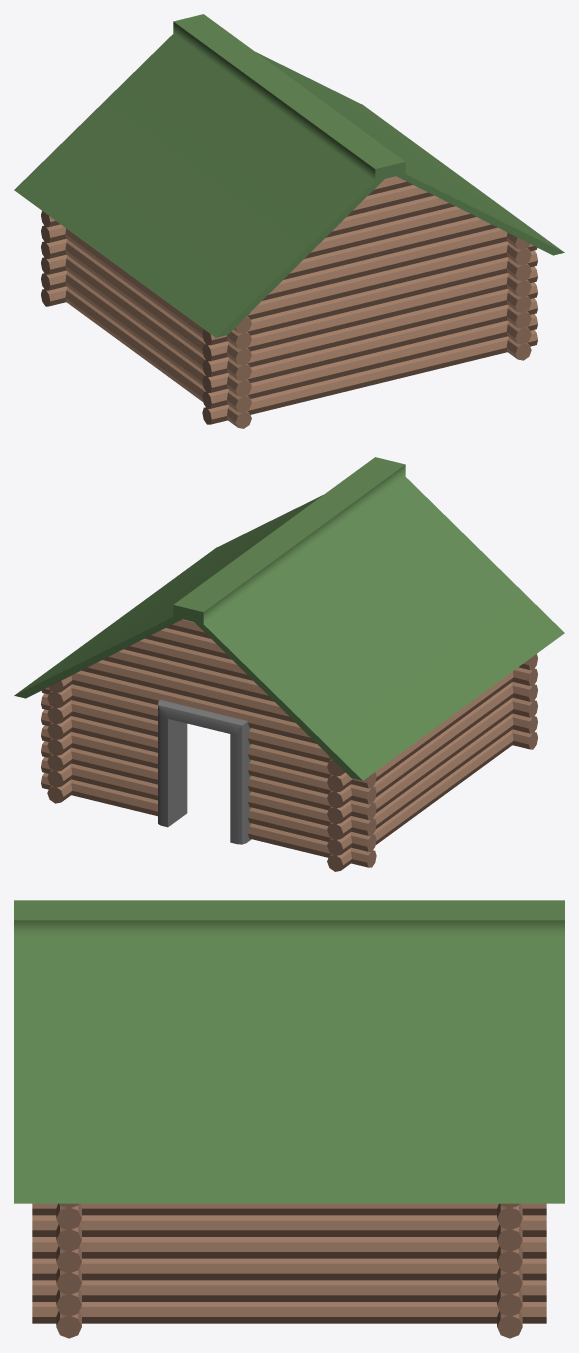
Rendered from CabinFinal.fbx.
3 views of the same model, one above another, from view 1: azimuth 30°, elevation 25°; view 2: azimuth 150°, elevation 25°; view 3: azimuth 270°, elevation 25° (orthographic). The views are drawn at different scales.
Parts seen in each view (by area): view 1: Roof, Back_Wall, R_Wall, L_Wall, Front_Wall; view 2: Roof, Front_Wall, R_Wall, DoorFrame, L_Wall, Back_Wall; view 3: Roof, L_Wall, Front_Wall, Back_Wall.
Boxes of the visible parts, x1,y1,x2,y2 form: Roof: [14, 14, 564, 337]; Back_Wall: [202, 176, 537, 424]; R_Wall: [65, 228, 251, 428]; L_Wall: [506, 232, 531, 360]; Front_Wall: [41, 211, 67, 306]; Roof: [14, 457, 564, 780]; Front_Wall: [41, 619, 376, 867]; R_Wall: [327, 671, 513, 871]; DoorFrame: [158, 700, 251, 844]; L_Wall: [47, 675, 72, 803]; Back_Wall: [511, 654, 537, 749]; Roof: [14, 900, 564, 1203]; L_Wall: [32, 1203, 546, 1323]; Front_Wall: [497, 1203, 522, 1338]; Back_Wall: [56, 1203, 81, 1338].
Size of the model in its own units: 29.95 by 19.2 by 30.
